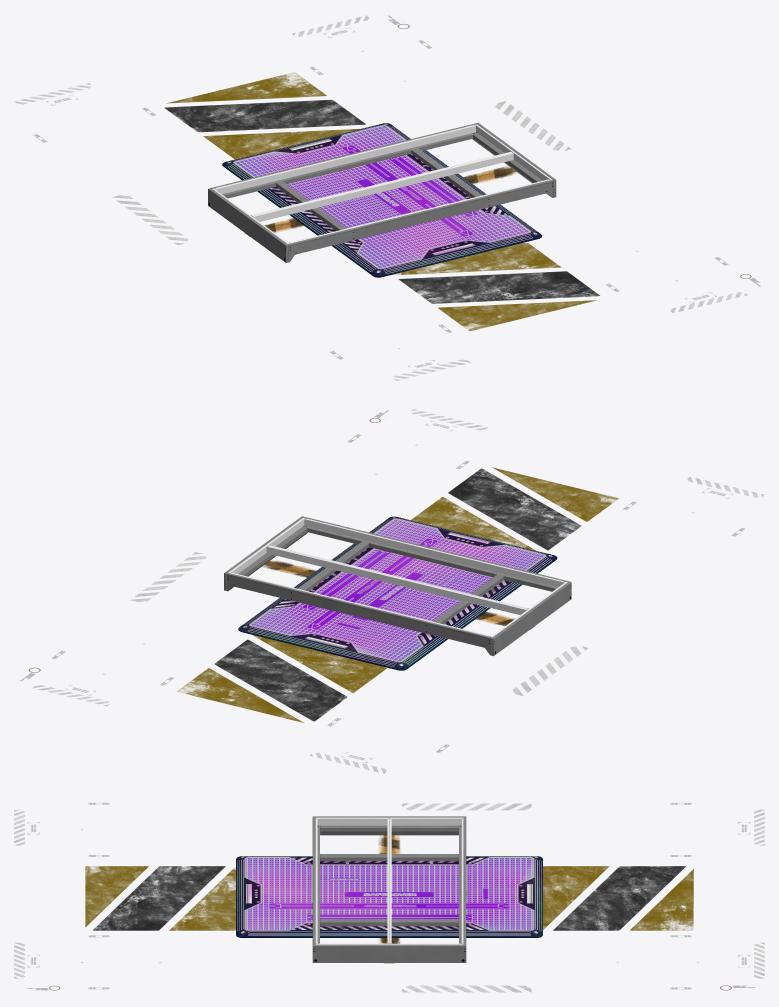
The model's file is boden.glb.
3 views of the same model, one above another, from view 1: azimuth 30°, elevation 25°; view 2: azimuth 150°, elevation 25°; view 3: azimuth 270°, elevation 25° (orthographic).
Parts seen in each view (by area): view 1: decal_gitter_trench_cover_1_d, decal_schraffur_pad_decal_warning_strip_square_02x08_a, decal_gitter_roomsm_floor_grate_02x04x0025_a, decal_parkfeld_roomsm_floor_decal_06x12x0025_a, decal_parkfeld_roomsm_floor_decal_06x12x0025_a_mirror, decal_schraffur_decal_line_caution_yellow_04x0025x001_a; view 2: decal_gitter_trench_cover_1_d, decal_schraffur_pad_decal_warning_strip_square_02x08_a, decal_gitter_roomsm_floor_grate_02x04x0025_a, decal_parkfeld_roomsm_floor_decal_06x12x0025_a, decal_parkfeld_roomsm_floor_decal_06x12x0025_a_mirror, decal_schraffur_decal_line_caution_yellow_04x0025x001_a; view 3: decal_gitter_trench_cover_1_d, decal_schraffur_pad_decal_warning_strip_square_02x08_a, decal_gitter_roomsm_floor_grate_02x04x0025_a, decal_parkfeld_roomsm_floor_decal_06x12x0025_a, decal_parkfeld_roomsm_floor_decal_06x12x0025_a_mirror, decal_schraffur_decal_line_caution_yellow_04x0025x001_a.
Part boxes in pixels (x1,y1,x2,y2): decal_gitter_trench_cover_1_d: (222,123,541,277); decal_schraffur_pad_decal_warning_strip_square_02x08_a: (165,72,599,330); decal_gitter_roomsm_floor_grate_02x04x0025_a: (208,122,556,262); decal_parkfeld_roomsm_floor_decal_06x12x0025_a: (112,15,760,313); decal_parkfeld_roomsm_floor_decal_06x12x0025_a_mirror: (14,83,571,380); decal_schraffur_decal_line_caution_yellow_04x0025x001_a: (265,166,516,232); decal_gitter_trench_cover_1_d: (238,516,557,670); decal_schraffur_pad_decal_warning_strip_square_02x08_a: (177,467,618,722); decal_gitter_roomsm_floor_grate_02x04x0025_a: (224,516,571,656); decal_parkfeld_roomsm_floor_decal_06x12x0025_a: (20,409,588,706); decal_parkfeld_roomsm_floor_decal_06x12x0025_a_mirror: (130,476,764,773); decal_schraffur_decal_line_caution_yellow_04x0025x001_a: (263,560,514,625); decal_gitter_trench_cover_1_d: (236,856,542,937); decal_schraffur_pad_decal_warning_strip_square_02x08_a: (85,866,693,930); decal_gitter_roomsm_floor_grate_02x04x0025_a: (312,816,466,962); decal_parkfeld_roomsm_floor_decal_06x12x0025_a: (14,803,764,990); decal_parkfeld_roomsm_floor_decal_06x12x0025_a_mirror: (14,803,764,992); decal_schraffur_decal_line_caution_yellow_04x0025x001_a: (378,835,400,943).
Size of the model in its own units: 5.86 by 0.2506 by 9.79.
45 materials, 44 textured.
